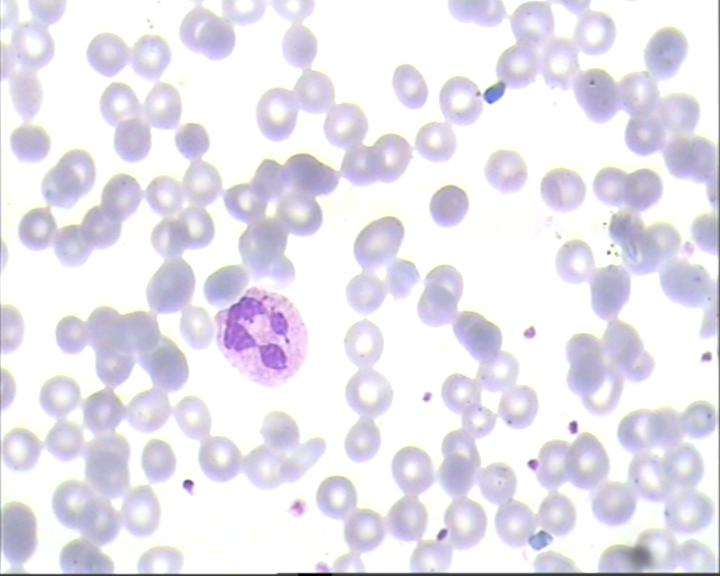neut: (214, 284, 309, 388)
